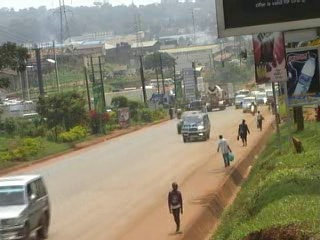Car: (174, 108, 203, 135)
Motorcycle: (248, 102, 258, 118), (175, 104, 183, 119)
